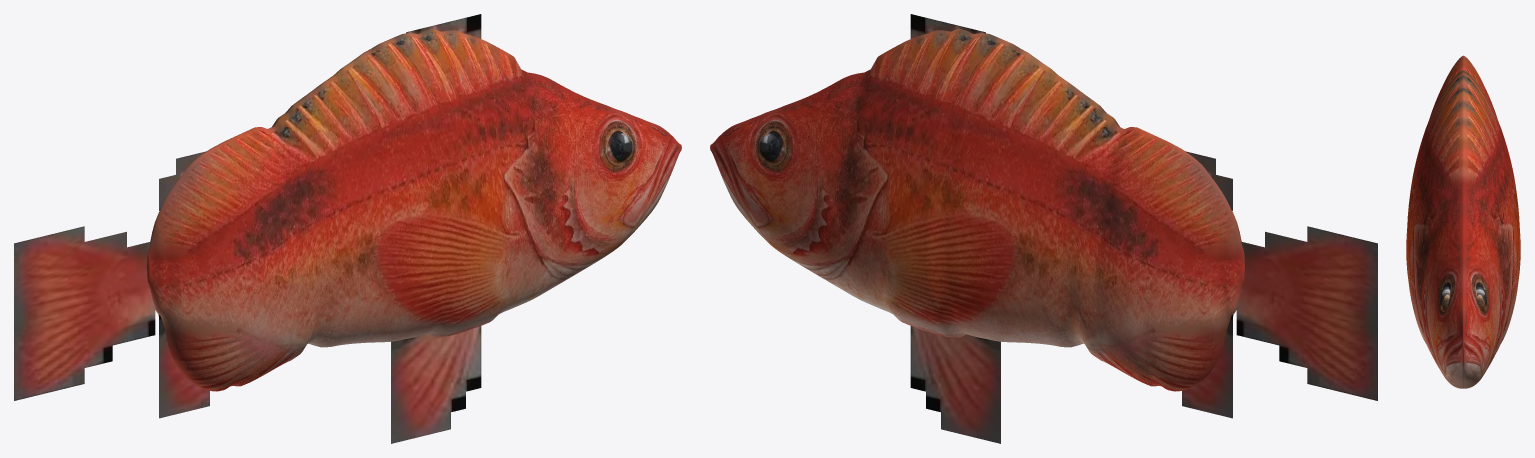
Rendered from real-sebastes_norvegicus.glb.
The picture shows the model from 3 angles, left to right: view 1: azimuth 30°, elevation 25°; view 2: azimuth 150°, elevation 25°; view 3: azimuth 270°, elevation 25°; orthographic projection. The views are drawn at different scales.
Parts seen in each view (by area): view 1: sebastes_norvegicus; view 2: sebastes_norvegicus; view 3: sebastes_norvegicus.
Boxes of the visible parts, x1,y1,x2,y2 form: sebastes_norvegicus: (14,14,681,443); sebastes_norvegicus: (710,14,1377,443); sebastes_norvegicus: (1406,55,1520,388).
Size of the model in its own units: 0.4479 by 0.2614 by 0.0782.
1 material, 1 textured.
